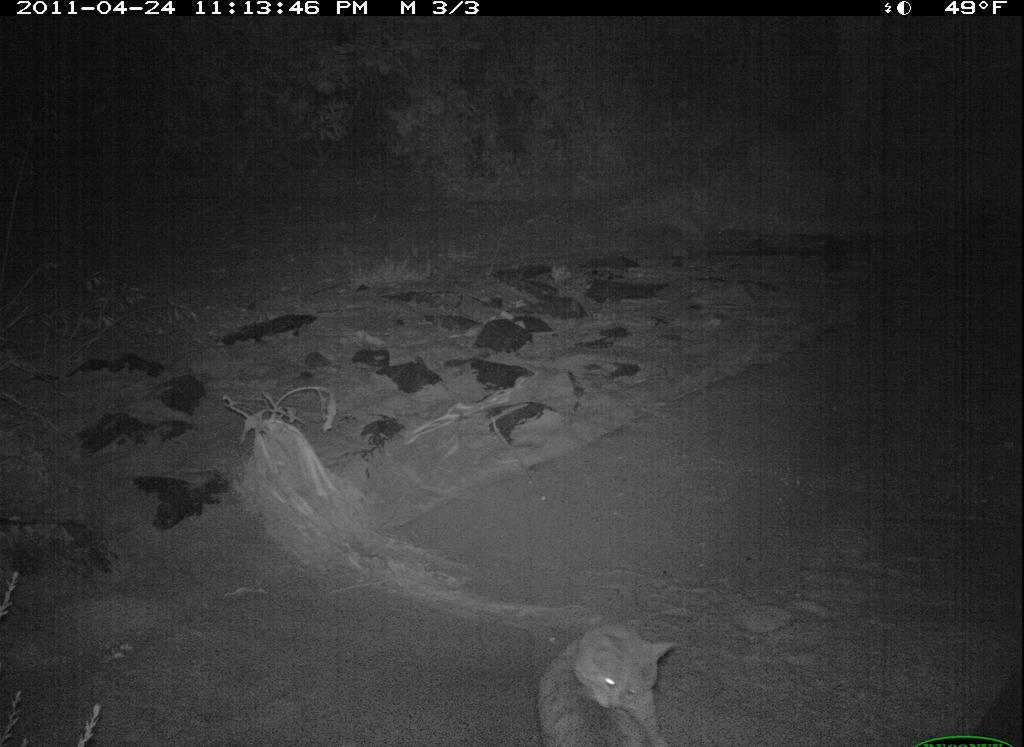cat: (533, 615, 693, 745)
